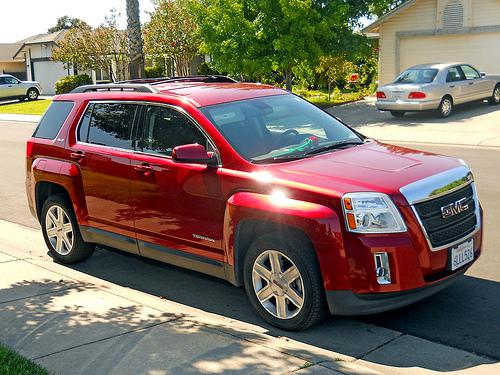Car: (21, 81, 490, 341), (371, 57, 500, 124), (1, 60, 46, 114)
